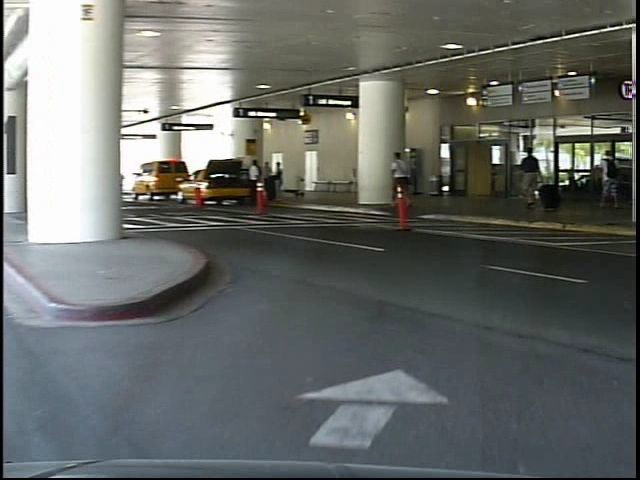person: (521, 142, 549, 213), (391, 147, 418, 214)
